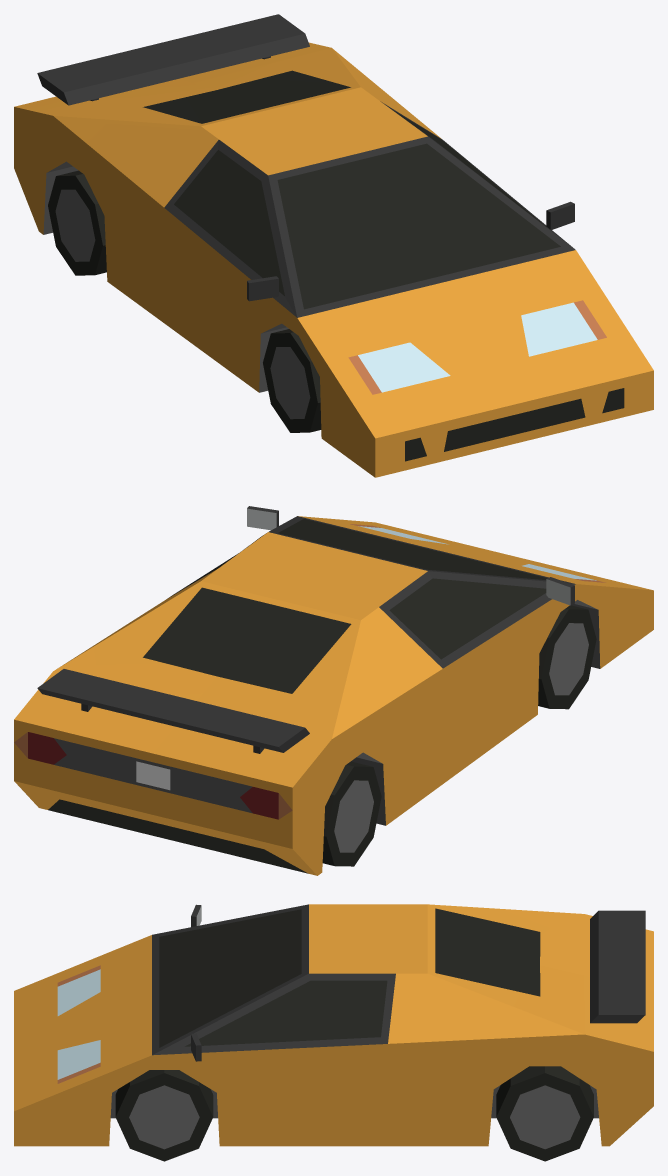
Rendered from Veh_Sports_Car_02_Yellow.glb.
3 renders of one model, top to bottom at view 1: azimuth 30°, elevation 25°; view 2: azimuth 150°, elevation 25°; view 3: azimuth 270°, elevation 25°, orthographic. The views are drawn at different scales.
Parts seen in each view (by area): view 1: Sports_Car_02_Yellow, Wheel_RR, Wheel_FR; view 2: Sports_Car_02_Yellow, Wheel_RR, Wheel_FR; view 3: Sports_Car_02_Yellow, Wheel_RL, Wheel_FL.
Part boxes in pixels (bbox=[...]): Sports_Car_02_Yellow: bbox=[14, 14, 653, 477]; Wheel_RR: bbox=[48, 170, 106, 275]; Wheel_FR: bbox=[263, 329, 321, 432]; Sports_Car_02_Yellow: bbox=[14, 506, 653, 875]; Wheel_RR: bbox=[322, 761, 381, 866]; Wheel_FR: bbox=[538, 605, 596, 709]; Sports_Car_02_Yellow: bbox=[14, 904, 653, 1146]; Wheel_RL: bbox=[496, 1066, 593, 1161]; Wheel_FL: bbox=[115, 1070, 213, 1161].
Size of the model in its own units: 1.28 by 0.6906 by 2.47.
1 material, 1 textured.
